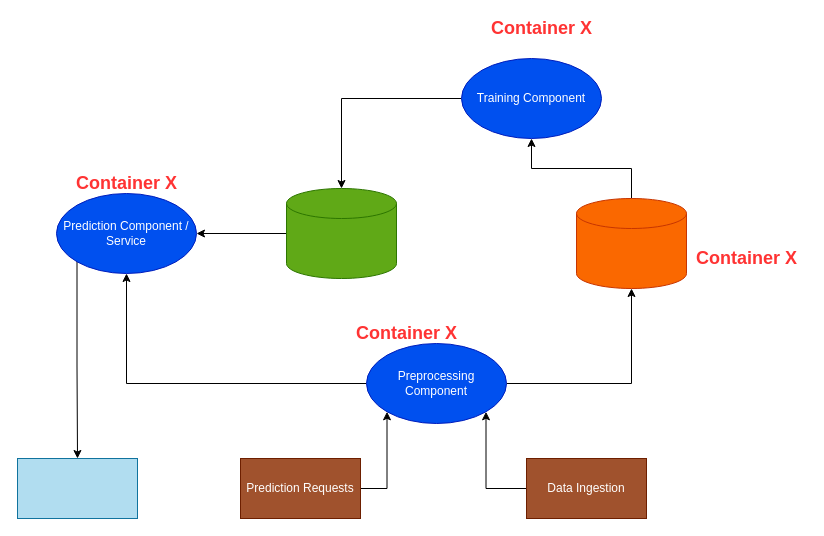
Image size: 824x536. Some labels were removed from this diagram. The shapes that lost their labels are listed below. From the top down, each one's centre as x and y in pixels, then its label:
At (x=341, y=233): "XGB Regressor REPO".
At (x=631, y=243): "Training Data".
At (x=77, y=488): "Prediction Results".
